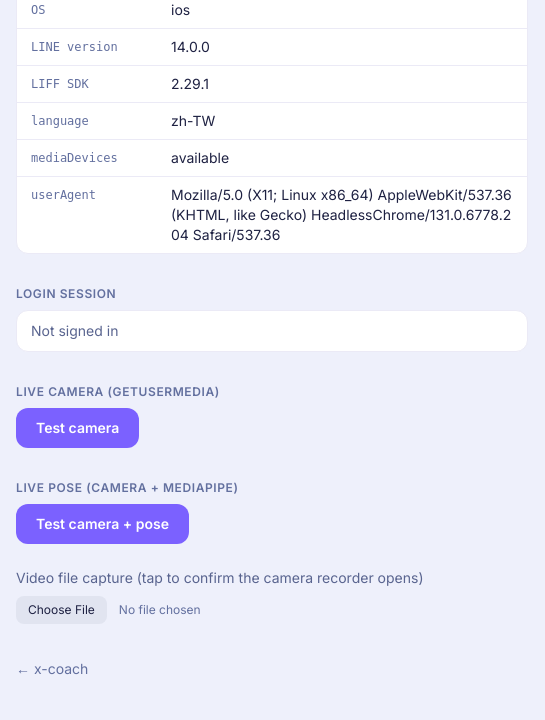
it: LiffDiag page › reports the failing stage (with the LIFF hint for a dead camera in-client)
This screenshot has width=545, height=720.
(page scrolled)
Expected: the text "ios" is shown, [171,0,190,20]
Step 1. Click the button "Test camera + pose" → (102, 524), box [16,504,189,544]
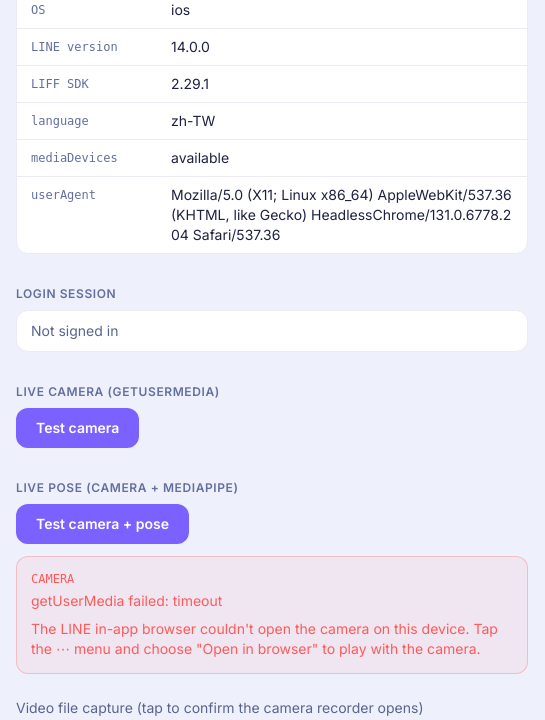
Result: the text "getUserMedia failed: timeout" is shown at [31,592,222,609]
